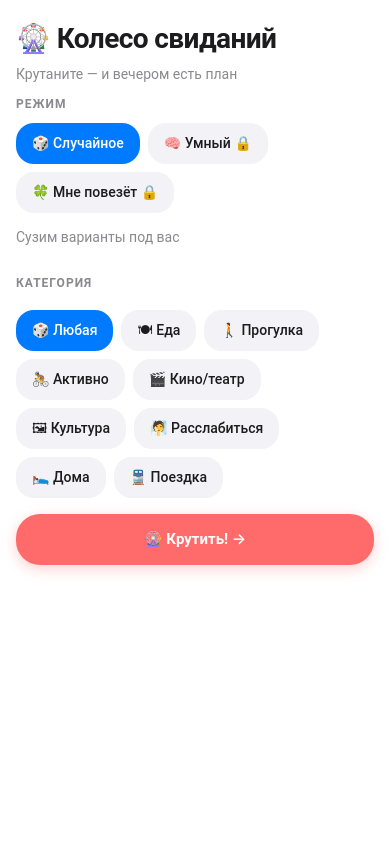
Test case: DateWheel — Bundle E save-to-wishlist › shows a 'Сохранить в вишлист' button on the result card and pushes the idea into the wishlist on click
// Spin → result phase.
Click the button "🎡 Крутить! →" at (195, 539), box [16,514,374,564]
Wait 1200 ms
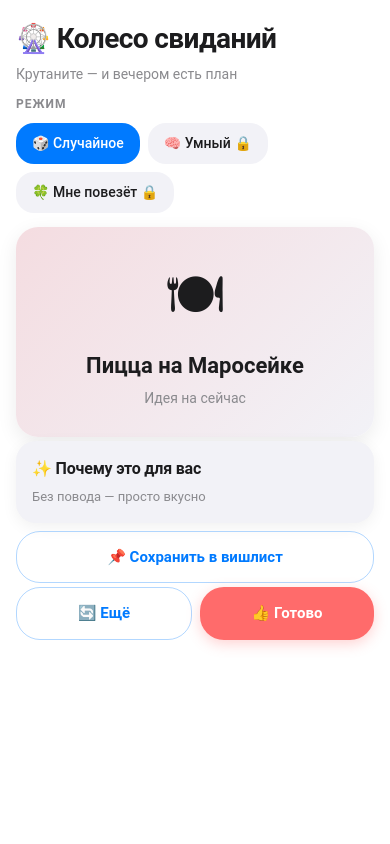
Result: the button "📌 Сохранить в вишлист" is shown
Click the button "📌 Сохранить в вишлист" at (195, 557), box [16,530,374,583]
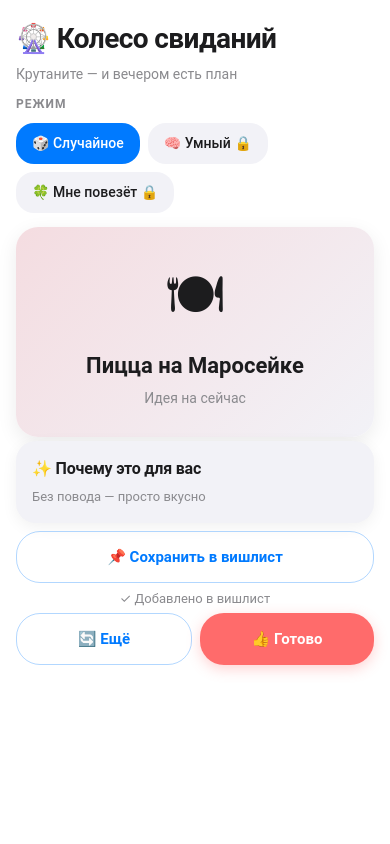
Result: the text "Пицца на Маросейке" is shown at [86,353,304,378]
Result: the text "✓ Добавлено в вишлист" is shown at [120,591,270,606]
